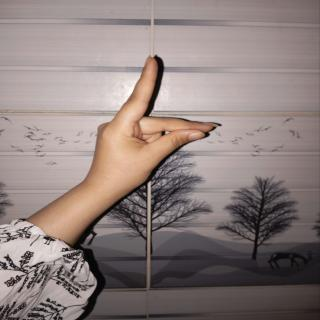TAA: (86, 53, 228, 203)
